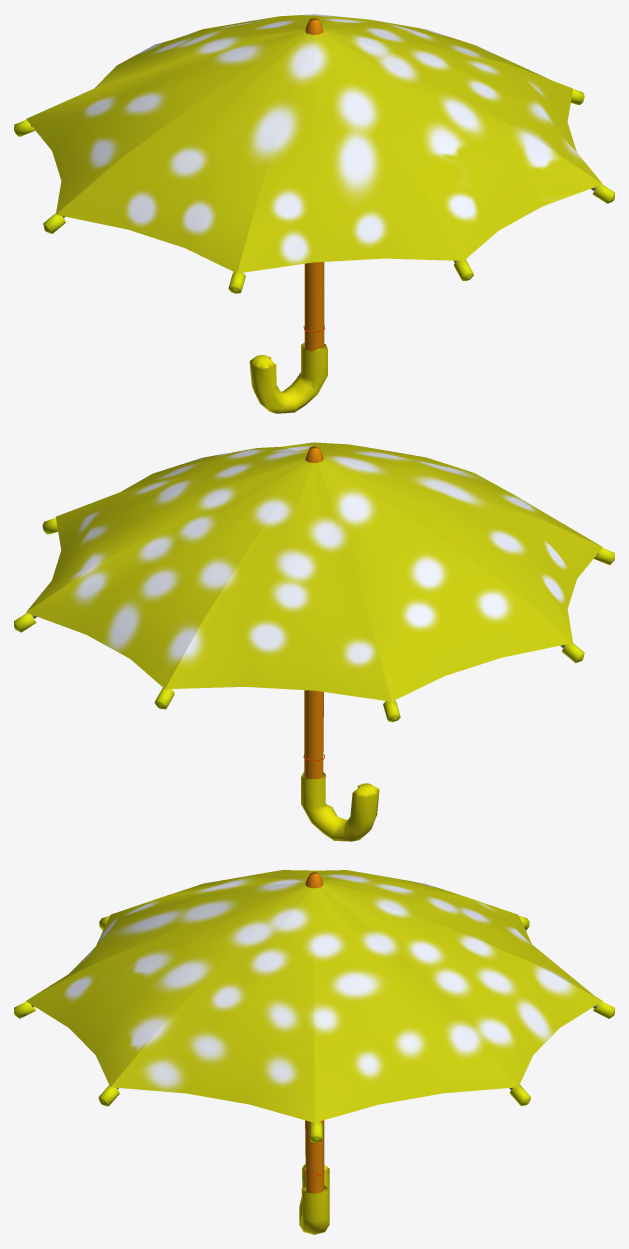
The model's file is cheese-umbrella-v3.glb.
3 views of the same model, one above another, from view 1: azimuth 30°, elevation 25°; view 2: azimuth 150°, elevation 25°; view 3: azimuth 270°, elevation 25° (orthographic). The views are drawn at different scales.
Parts seen in each view (by area): view 1: 布（チーズ柄）, 柱; view 2: 布（チーズ柄）, 柱; view 3: 布（チーズ柄）, 柱.
Boxes of the visible parts, x1,y1,x2,y2 form: 布（チーズ柄）: (26, 14, 602, 273); 柱: (249, 18, 327, 413); 布（チーズ柄）: (26, 442, 602, 701); 柱: (301, 446, 379, 841); 布（チーズ柄）: (26, 870, 602, 1122); 柱: (299, 872, 329, 1234).
Bounding box in the file's own units: 2.08 × 1.42 × 2.08.
Materials: 23 (1 with a texture image).
